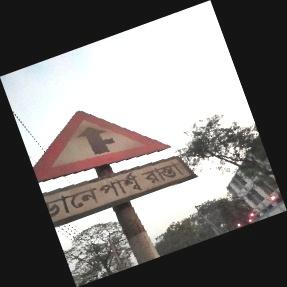Side-road-right: (32, 110, 189, 226)
